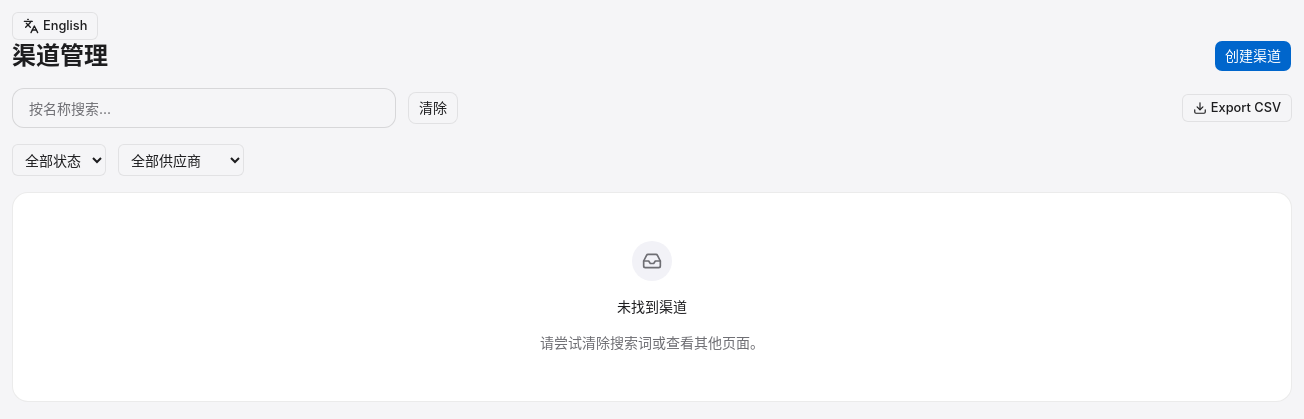
admin language synchronization › switches the channel management title and content together
The image size is (1304, 419).
Expected: the heading "渠道管理" is shown, [12, 40, 108, 72]
Expected: the text "未找到渠道" is shown, [617, 297, 687, 317]
Click the button with aria-label "切换至英文": click(55, 26) [12, 12, 98, 40]
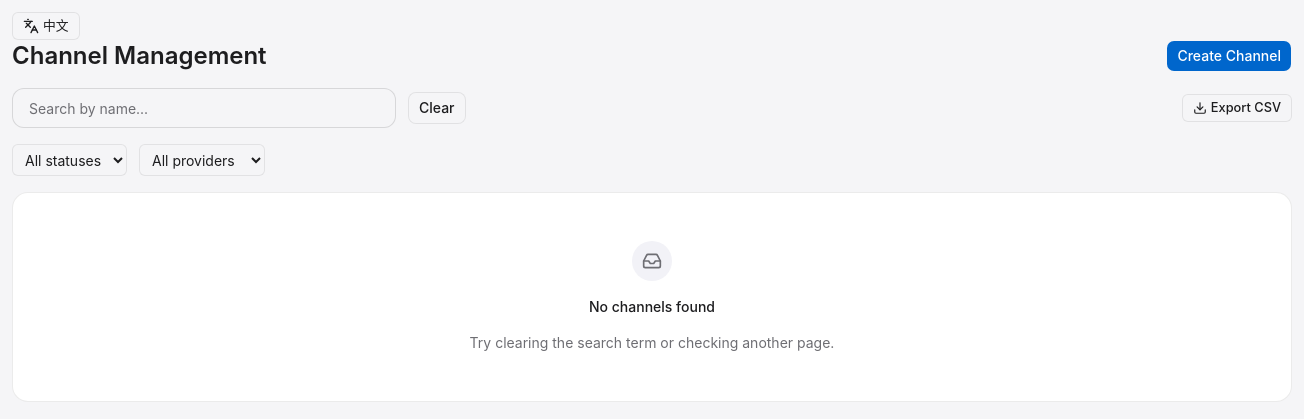
Now the heading "Channel Management" is shown, box [12, 40, 267, 72]
Now the text "No channels found" is shown, box [589, 297, 715, 317]
